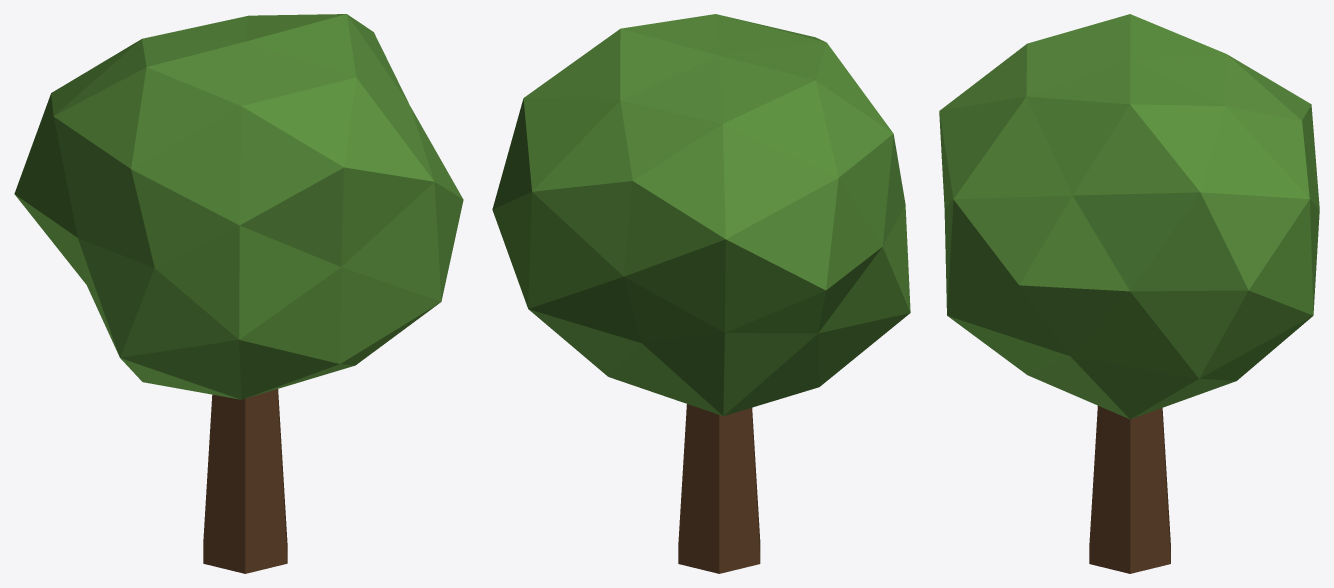
The model's file is Tree.glb.
The picture shows the model from 3 angles, left to right: view 1: azimuth 30°, elevation 25°; view 2: azimuth 150°, elevation 25°; view 3: azimuth 270°, elevation 25°; orthographic projection. The views are drawn at different scales.
Parts seen in each view (by area): view 1: Tree; view 2: Tree; view 3: Tree.
Part boxes in pixels (x1,y1,x2,y2): Tree: (14, 14, 463, 573); Tree: (492, 14, 910, 573); Tree: (939, 14, 1319, 573).
Bounding box in the file's own units: 0.4899 × 0.7004 × 0.4855.
